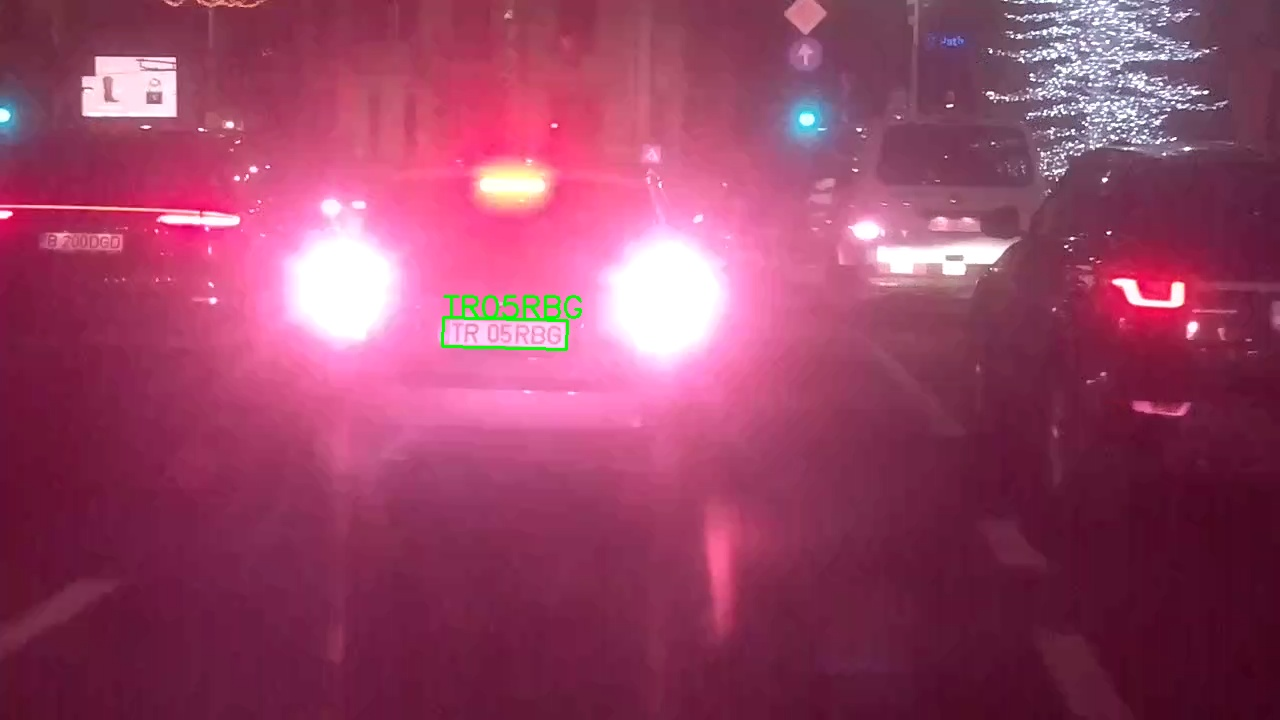license-plate: (442, 317, 568, 351)
